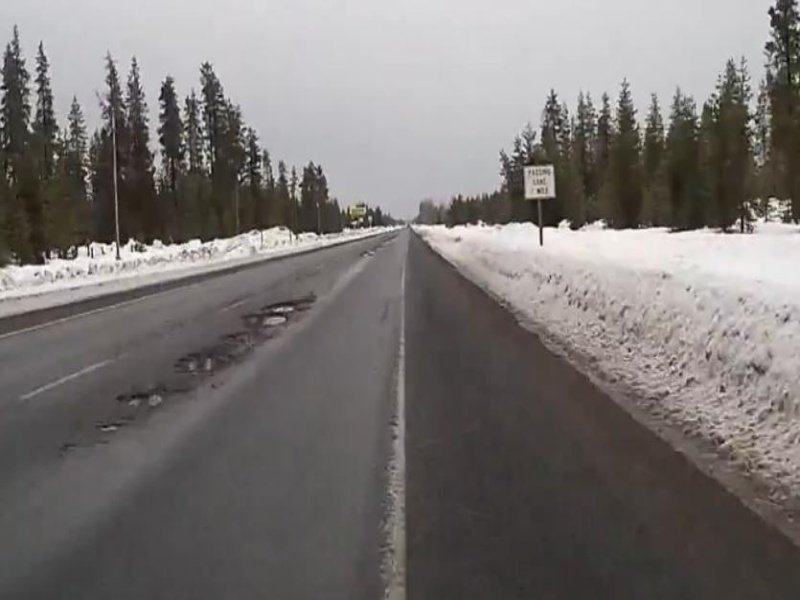pothole: (179, 352, 236, 373), (263, 298, 308, 313), (245, 314, 295, 327)
